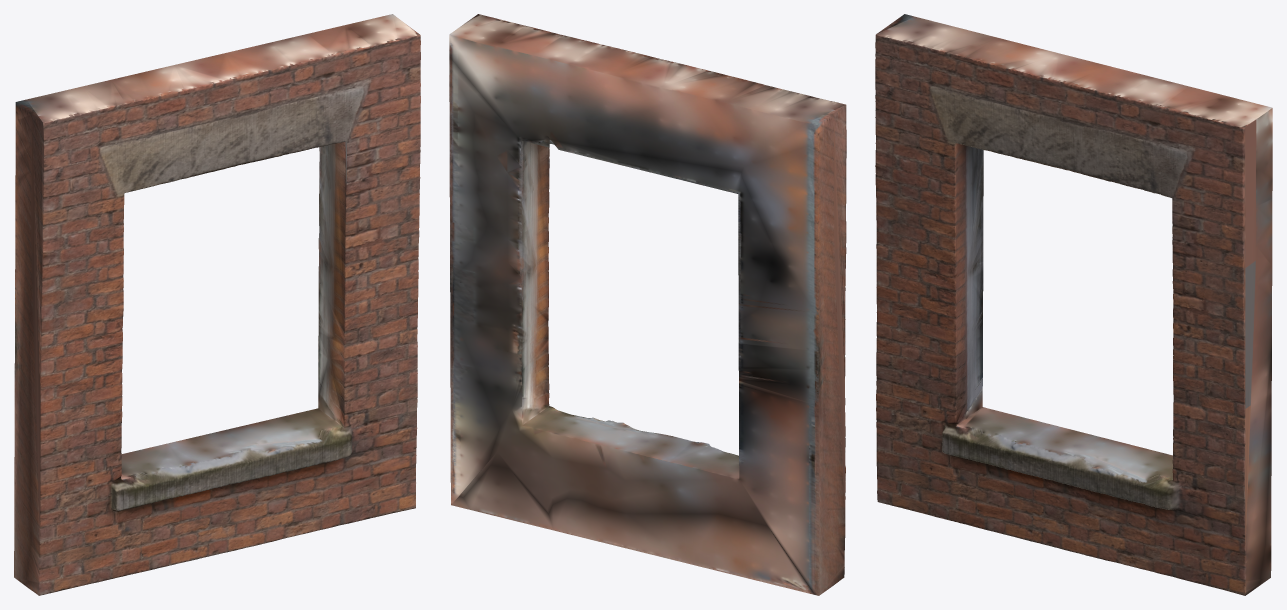
File: Window_Ancoats_2.fbx
3 views of the same model, side by side, from view 1: azimuth 30°, elevation 25°; view 2: azimuth 150°, elevation 25°; view 3: azimuth 330°, elevation 25° (orthographic).
Parts seen in each view (by area): view 1: Window_Ancoats_2; view 2: Window_Ancoats_2; view 3: Window_Ancoats_2.
Part boxes in pixels (box(x1,y1,x2,y2)): Window_Ancoats_2: box(14, 14, 420, 595); Window_Ancoats_2: box(449, 14, 846, 595); Window_Ancoats_2: box(875, 14, 1272, 595).
Size of the model in its own units: 150 by 182 by 23.24.
Materials: 1 (1 with a texture image).
